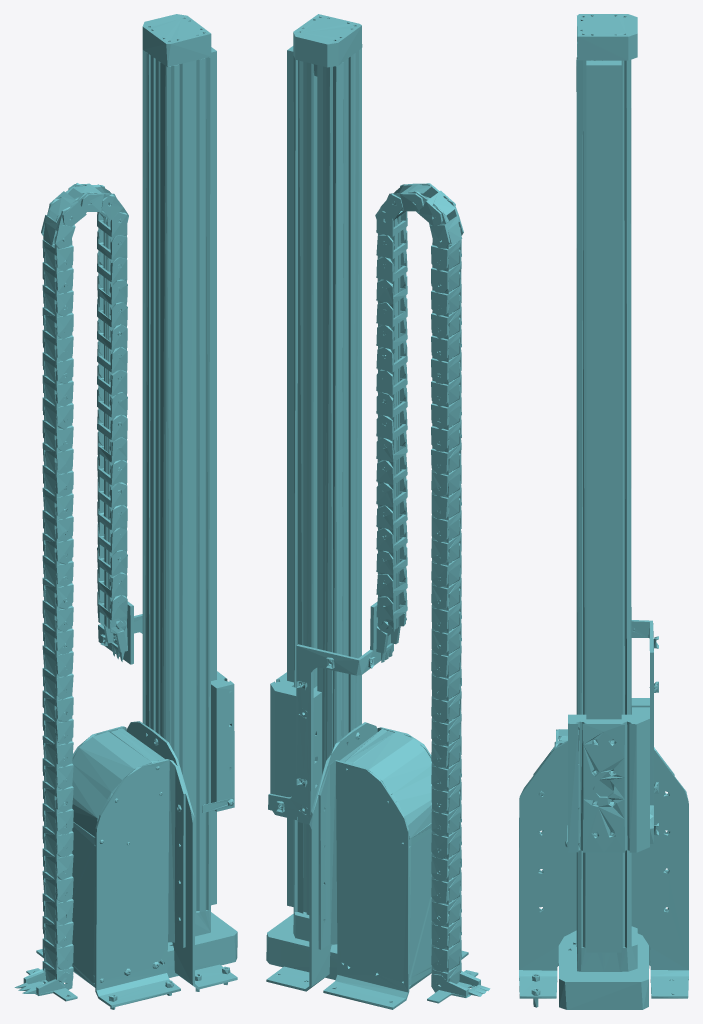
Rendered from meka_zlift.dae.
The picture shows the model from 3 angles, left to right: view 1: azimuth 30°, elevation 25°; view 2: azimuth 150°, elevation 25°; view 3: azimuth 270°, elevation 25°; orthographic projection. The views are drawn at different scales.
Parts seen in each view (by area): view 1: MB1_00_000_meka_mobile_base_backpack_zlift_0012; view 2: MB1_00_000_meka_mobile_base_backpack_zlift_0012; view 3: MB1_00_000_meka_mobile_base_backpack_zlift_0012.
Part boxes in pixels (left/top/right/bottom): MB1_00_000_meka_mobile_base_backpack_zlift_0012: left=14, top=14, right=237, bottom=1009; MB1_00_000_meka_mobile_base_backpack_zlift_0012: left=266, top=14, right=490, bottom=1009; MB1_00_000_meka_mobile_base_backpack_zlift_0012: left=519, top=14, right=688, bottom=1009.
Size of the model in its own units: 0.2833 by 0.2 by 1.26.
